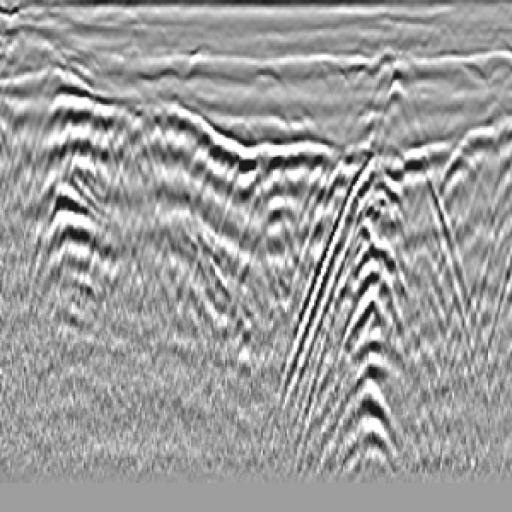metalic: (216, 64, 331, 332)
